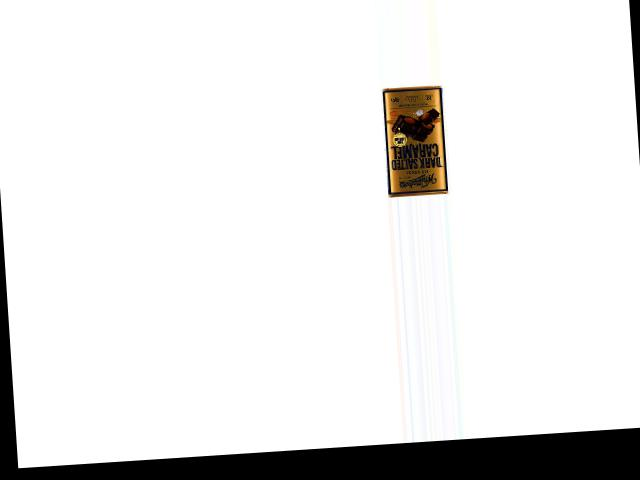chocolate: (377, 82, 450, 196)
